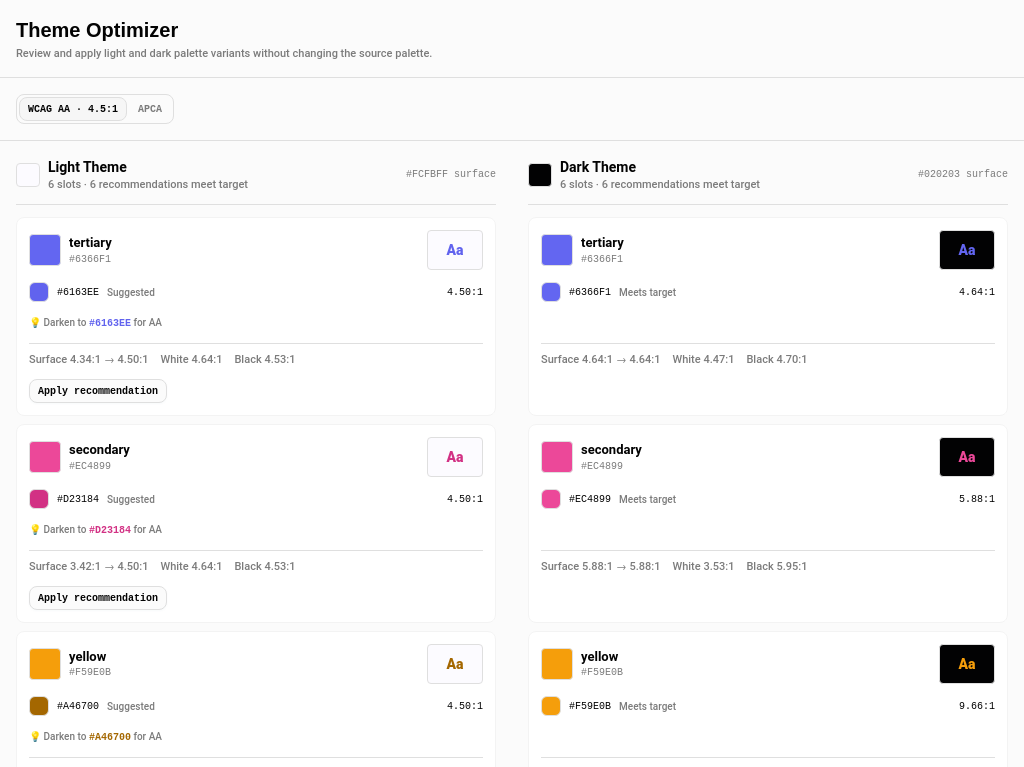
Test: build tools › theme optimizer switches contrast standards without applying palette changes
Expected: the heading "Theme Optimizer" is shown, [16,19,178,41]
Step 1. Click the button "APCA" → (150, 109), box [129,97,171,121]
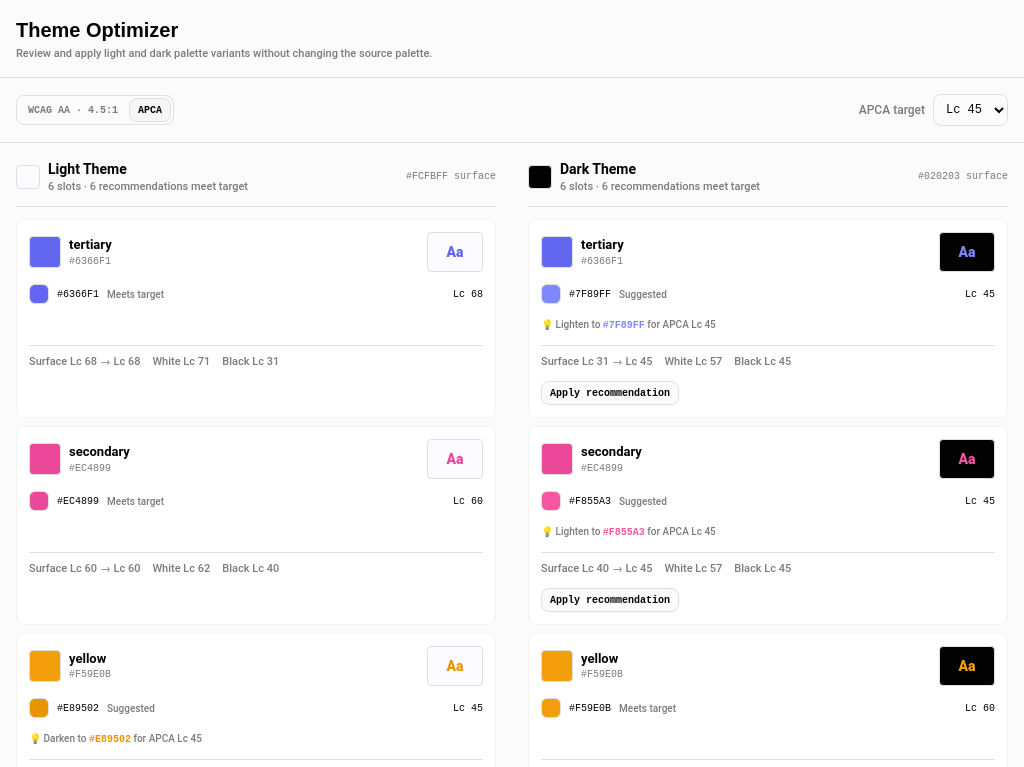
Expected: the dropdown labelled "APCA target" shows "Lc 45"
Step 2. Select "Lc 60" in the dropdown labelled "APCA target" → (970, 110), box [933,94,1008,126]
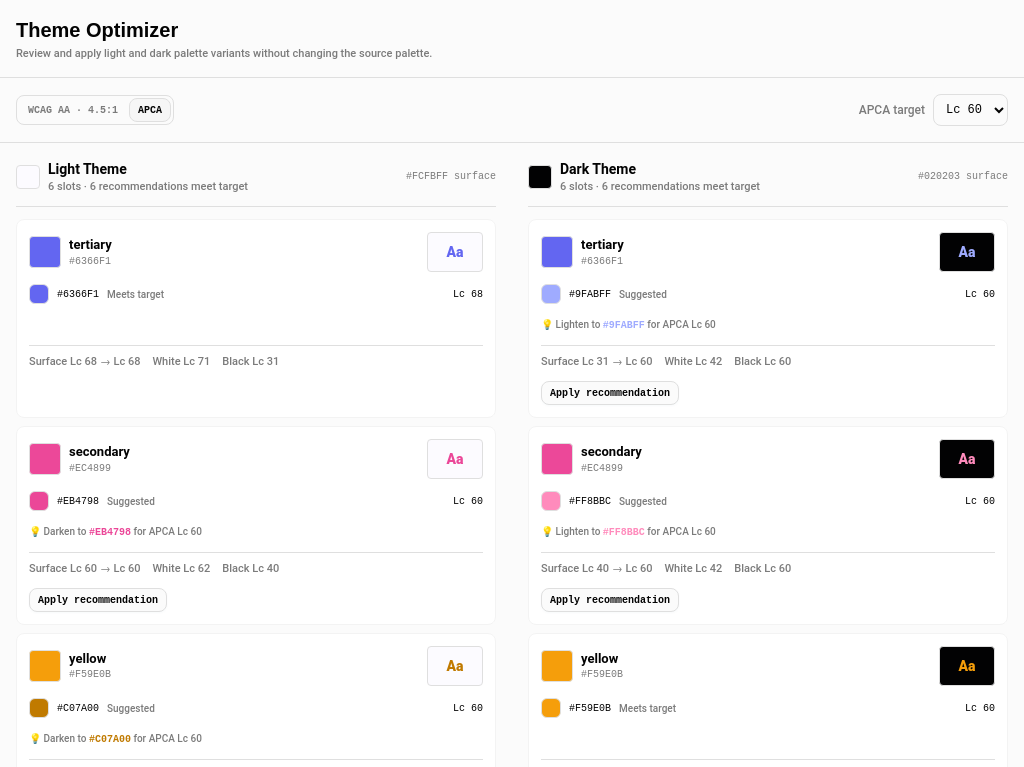
Step 3. Click the button "WCAG AA · 4.5:1" → (73, 110), box [19,98,127,122]
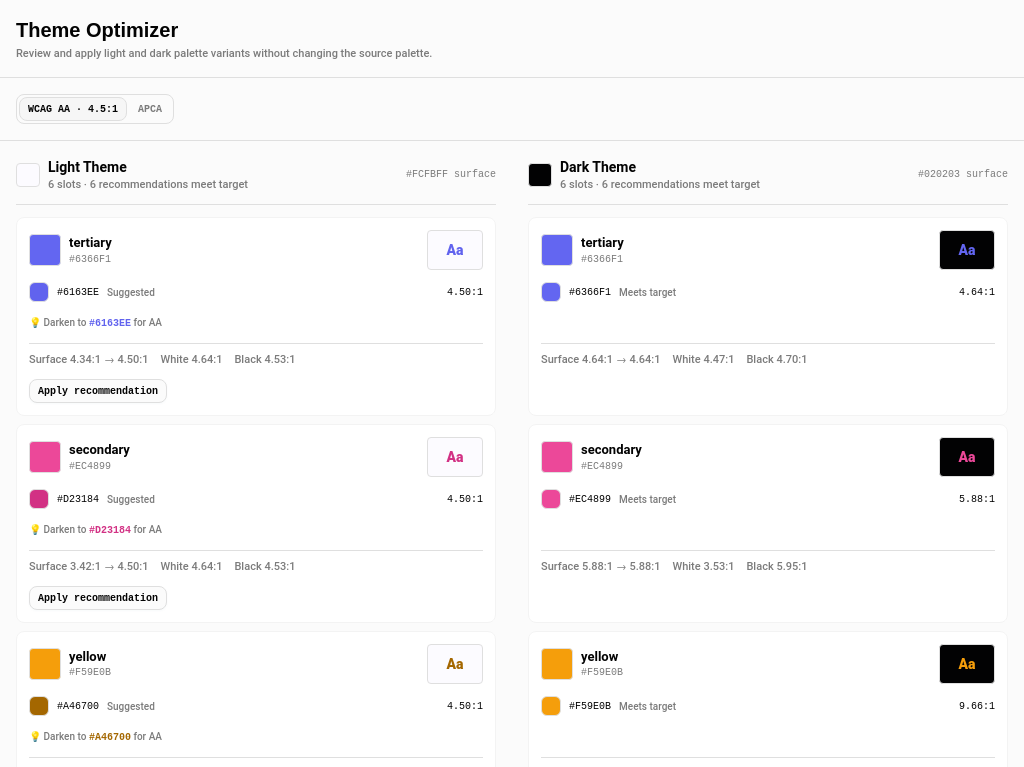
Expected: the label "APCA target" is gone
